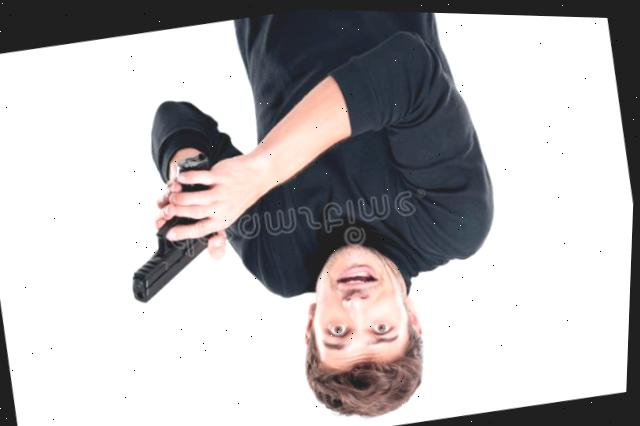pistol: (106, 143, 248, 310)
